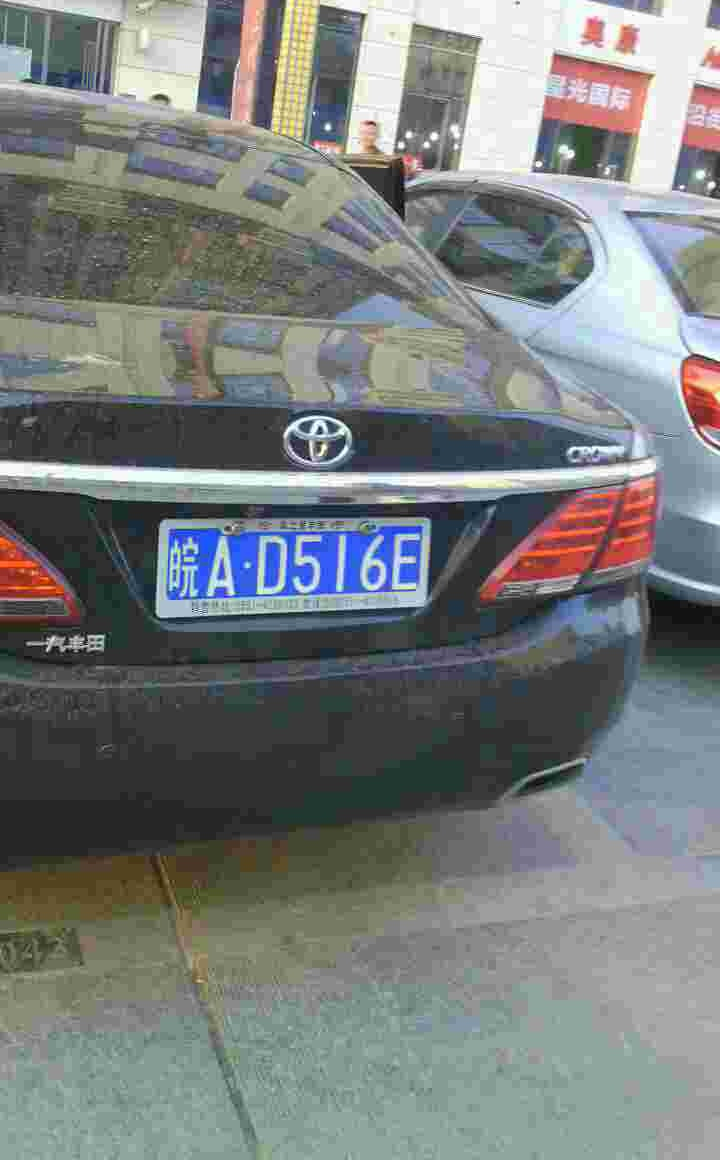license_plate: (153, 518, 446, 598)
